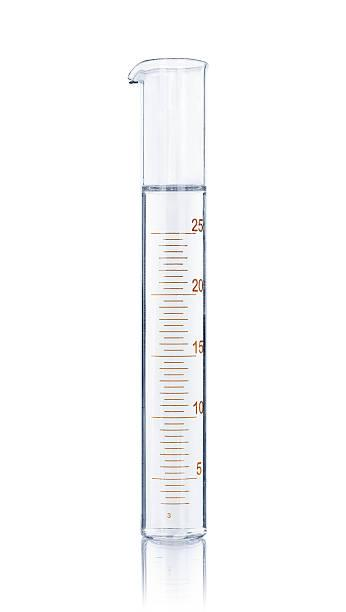Test tube: (107, 55, 225, 558)
